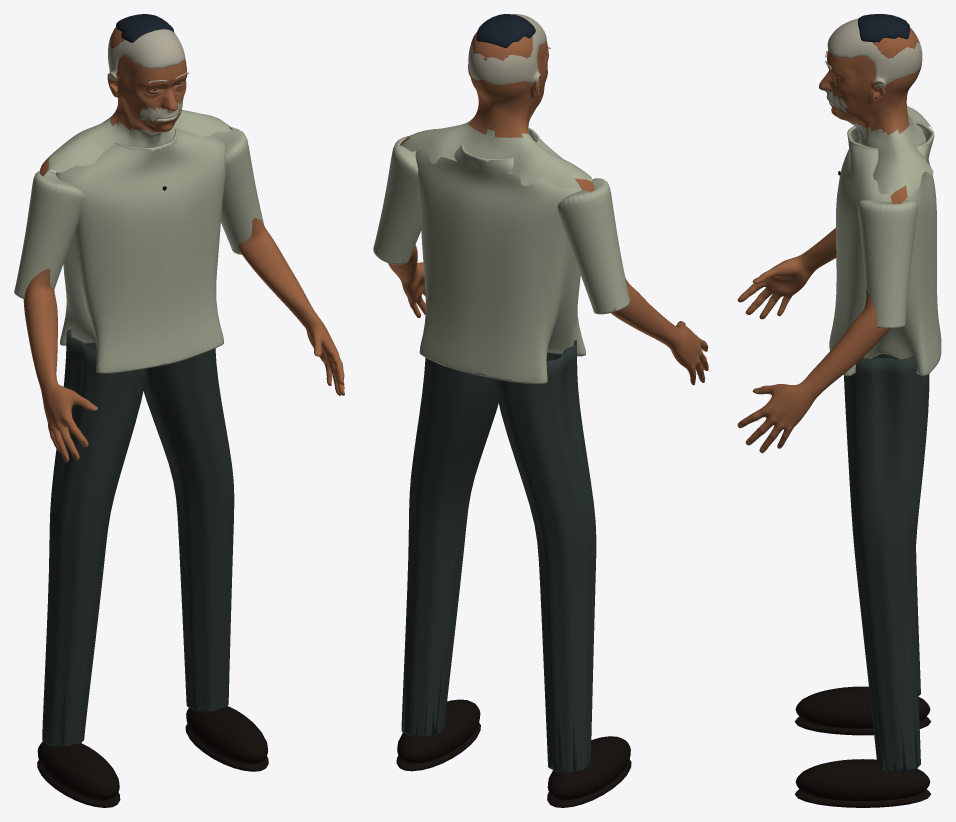
Rendered from ezra.glb.
The picture shows the model from 3 angles, left to right: view 1: azimuth 30°, elevation 25°; view 2: azimuth 150°, elevation 25°; view 3: azimuth 270°, elevation 25°; orthographic projection.
Visible parts, largest first — view 1: Ezra l trouser leg, Ezra l linen sleeve, Ezra anatomy, Ezra shirt button.001, Ezra eyebrow, Ezra kippah; view 2: Ezra l trouser leg, Ezra l linen sleeve, Ezra anatomy, Ezra shirt button.001, Ezra eyebrow, Ezra kippah; view 3: Ezra l trouser leg, Ezra l linen sleeve, Ezra anatomy, Ezra shirt button.001, Ezra eyebrow, Ezra kippah.
Boxes of the visible parts, x1,y1,x2,y2 form: Ezra l trouser leg: (42,330,234,747); Ezra l linen sleeve: (14,119,264,373); Ezra anatomy: (23,26,344,462); Ezra shirt button.001: (37,186,268,807); Ezra eyebrow: (107,29,188,83); Ezra kippah: (116,14,174,42); Ezra l trouser leg: (401,340,596,773); Ezra l linen sleeve: (373,127,630,383); Ezra anatomy: (388,31,708,385); Ezra shirt button.001: (396,699,631,807); Ezra eyebrow: (468,14,550,84); Ezra kippah: (476,14,535,47); Ezra l trouser leg: (844,354,929,772); Ezra l linen sleeve: (829,121,941,376); Ezra anatomy: (737,27,933,453); Ezra shirt button.001: (794,171,931,807); Ezra eyebrow: (825,18,922,87); Ezra kippah: (858,14,909,42).
Size of the model in its own units: 0.7101 by 1.78 by 0.44.
